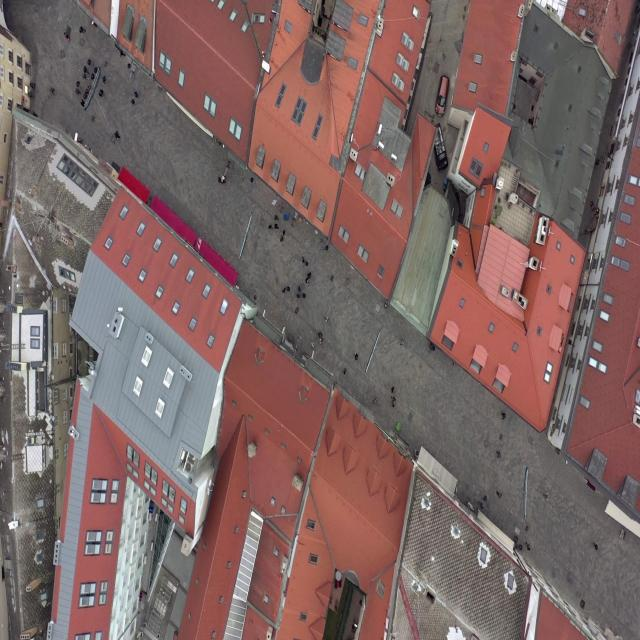Van: (434, 76, 450, 116)
